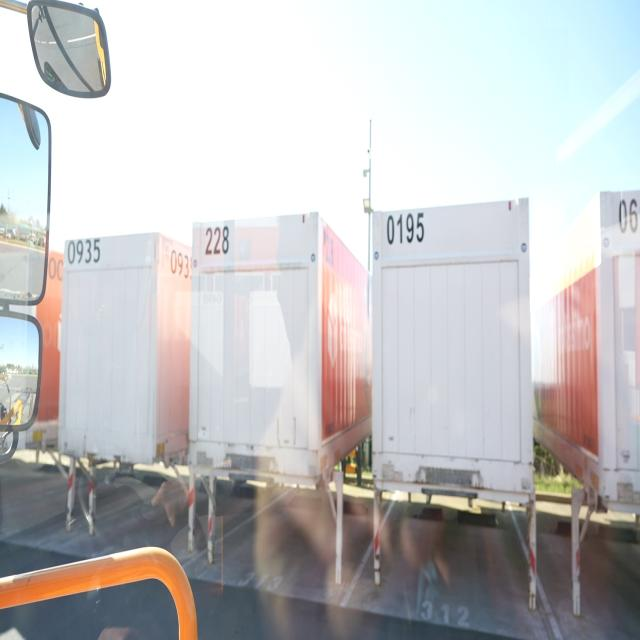Code: (385, 207, 429, 250), (65, 233, 101, 269), (202, 222, 232, 255)
